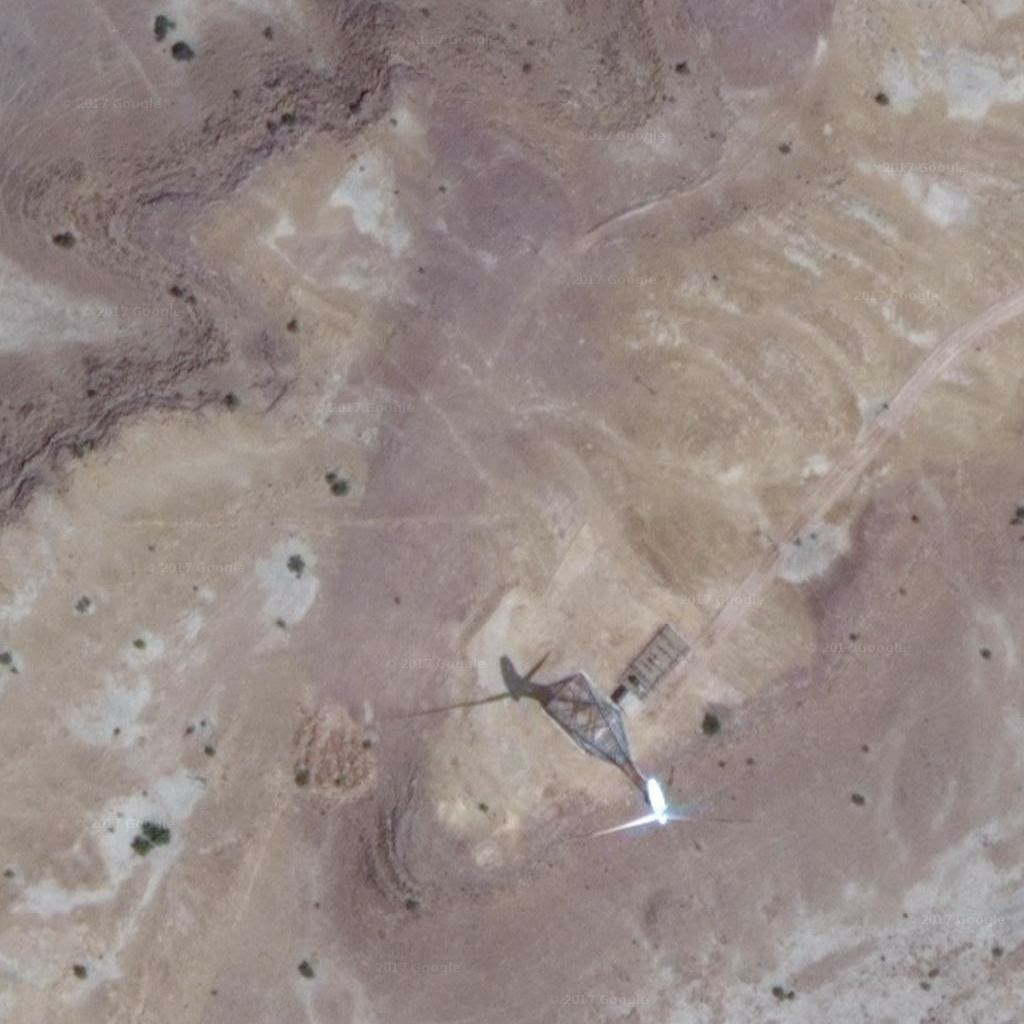Windmill: (583, 310, 737, 590)
